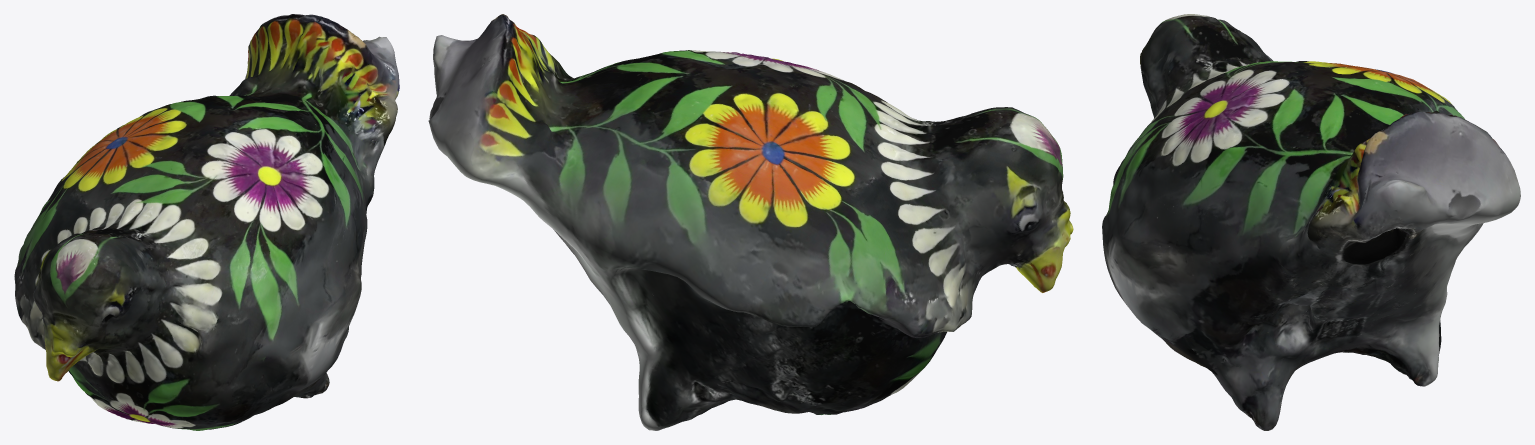
3 renders of one model, left to right at view 1: azimuth 30°, elevation 25°; view 2: azimuth 150°, elevation 25°; view 3: azimuth 270°, elevation 25°, orthographic. The views are drawn at different scales.
Size of the model in its own units: 1.01 by 0.6988 by 0.7543.
Materials: 1 (1 with a texture image).
